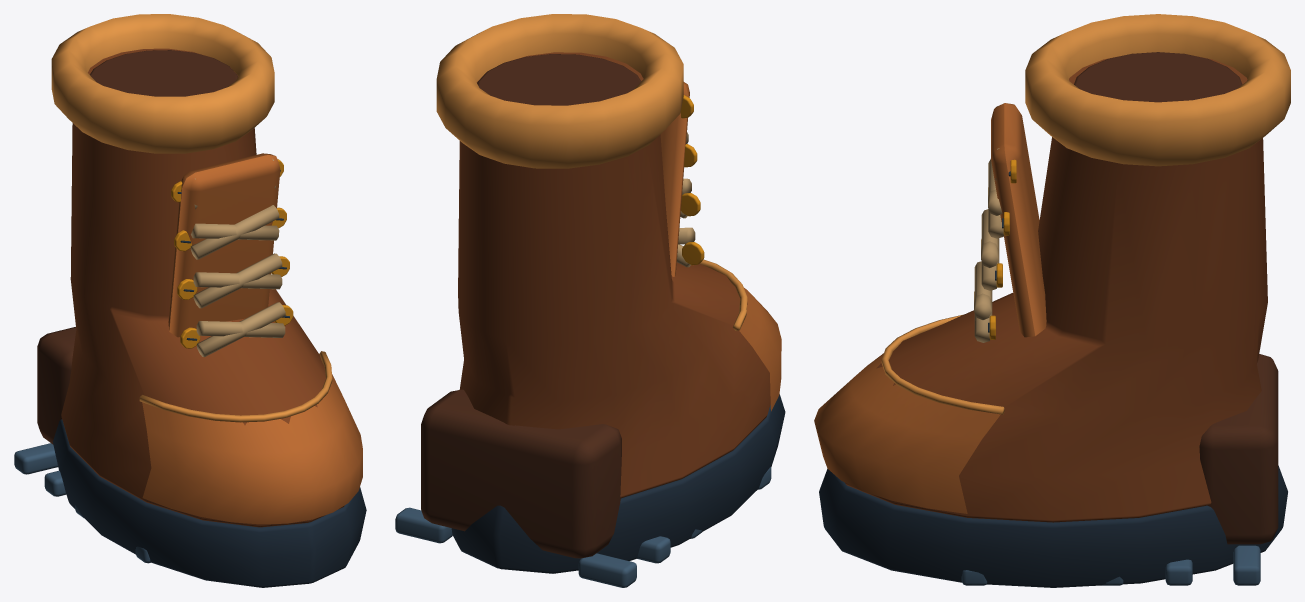
The model's file is lumber_boot.glb.
The picture shows the model from 3 angles, left to right: view 1: azimuth 30°, elevation 25°; view 2: azimuth 150°, elevation 25°; view 3: azimuth 270°, elevation 25°; orthographic projection. The views are drawn at different scales.
Parts seen in each view (by area): view 1: lumber_boot_runtime; view 2: lumber_boot_runtime; view 3: lumber_boot_runtime.
Boxes of the visible parts, x1,y1,x2,y2 form: lumber_boot_runtime: (14,14,366,587); lumber_boot_runtime: (395,14,785,587); lumber_boot_runtime: (814,14,1290,587).
Bounding box in the file's own units: 0.757 × 1.3 × 1.19.
1 material, 1 textured.
